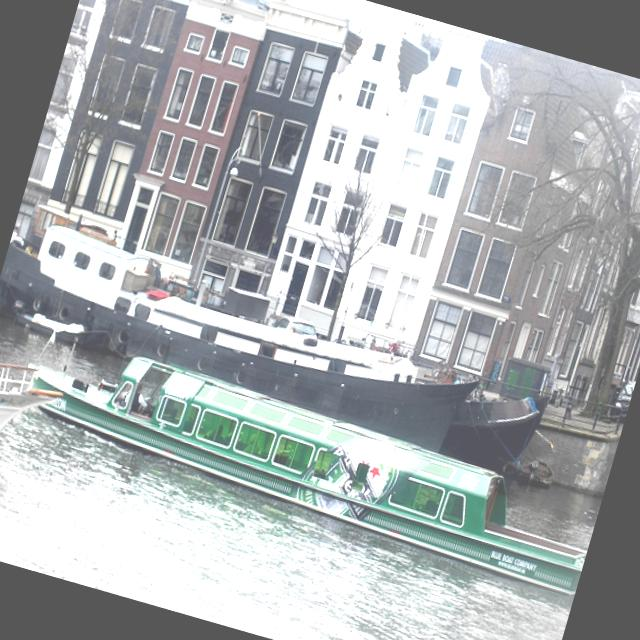Vehicle: (606, 374, 636, 424), (272, 312, 320, 338)
